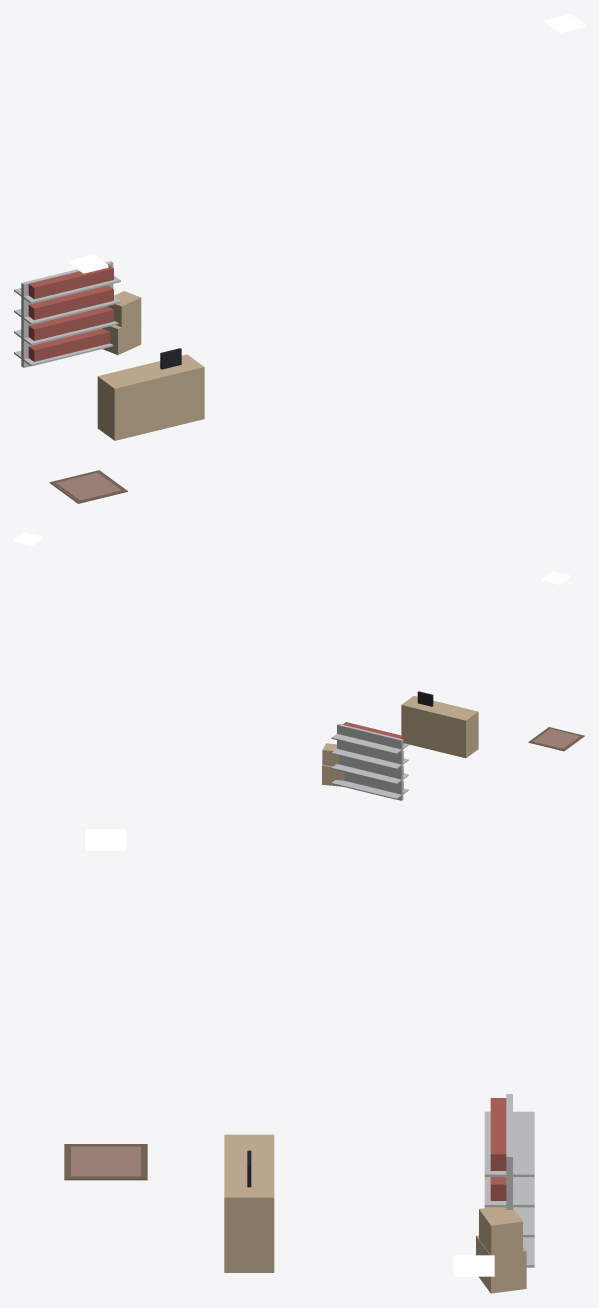
File: fine-s0.glb
The picture shows the model from 3 angles, top to bottom: view 1: azimuth 30°, elevation 25°; view 2: azimuth 150°, elevation 25°; view 3: azimuth 270°, elevation 25°; orthographic projection. The views are drawn at different scales.
Visible parts, largest first — view 1: shelving.000, shop-counter.000, cardboard-box.000, soft-s0; view 2: shelving.000, shop-counter.000, soft-s0, cardboard-box.000; view 3: shop-counter.000, shelving.000, cardboard-box.000, soft-s0, ceiling-lamp.000, ceiling-lamp.001.
Boxes of the visible parts, left/top/right/bottom form: shelving.000: left=14, top=261, right=120, bottom=367; shop-counter.000: left=97, top=348, right=204, bottom=440; cardboard-box.000: left=102, top=291, right=141, bottom=354; soft-s0: left=49, top=470, right=127, bottom=503; shelving.000: left=331, top=722, right=408, bottom=800; shop-counter.000: left=401, top=691, right=478, bottom=758; soft-s0: left=528, top=727, right=584, bottom=751; cardboard-box.000: left=322, top=743, right=344, bottom=786; shop-counter.000: left=224, top=1134, right=274, bottom=1272; shelving.000: left=484, top=1094, right=534, bottom=1267; cardboard-box.000: left=476, top=1207, right=526, bottom=1293; soft-s0: left=64, top=1144, right=147, bottom=1180; ceiling-lamp.000: left=85, top=829, right=126, bottom=850; ceiling-lamp.001: left=453, top=1255, right=494, bottom=1276.
Bounding box in the file's own units: 12.87 × 4.3 × 5.66.
